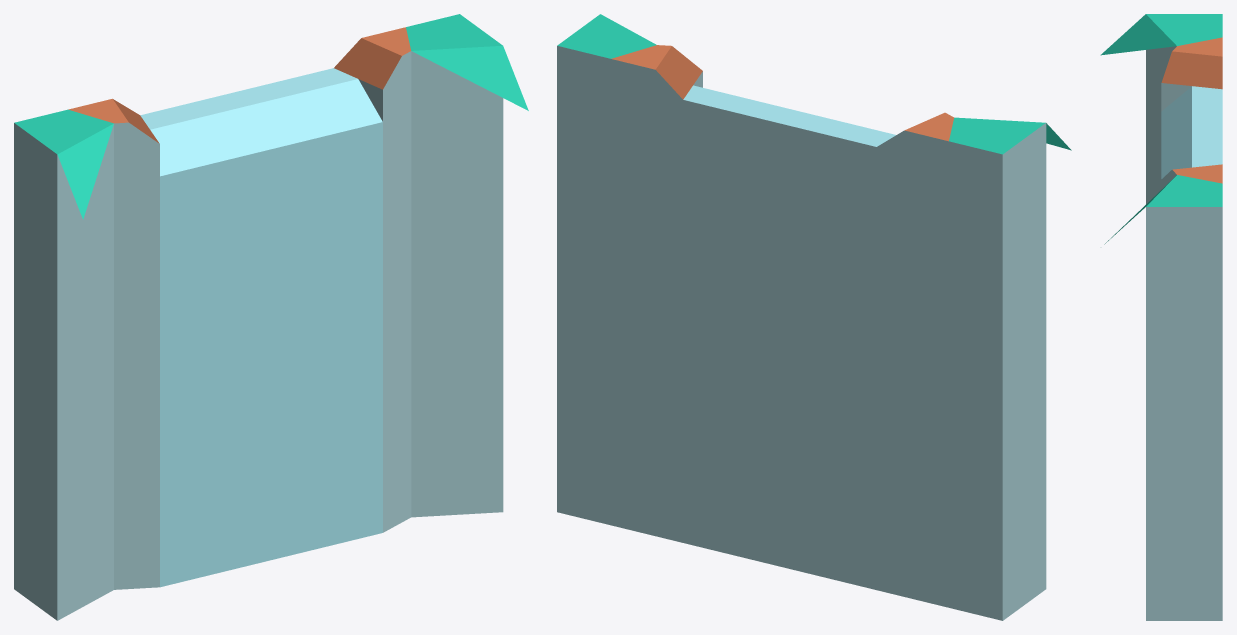
The model's file is cliff_waterfallTop_stone.obj.
3 views of the same model, side by side, from view 1: azimuth 30°, elevation 25°; view 2: azimuth 150°, elevation 25°; view 3: azimuth 270°, elevation 25° (orthographic). The views are drawn at different scales.
Visible parts, largest first — view 1: cliff_waterfallTop_stone; view 2: cliff_waterfallTop_stone; view 3: cliff_waterfallTop_stone.
Part boxes in pixels (x1,y1,x2,y2): cliff_waterfallTop_stone: (14, 14, 528, 620); cliff_waterfallTop_stone: (557, 14, 1071, 620); cliff_waterfallTop_stone: (1100, 14, 1222, 620).
Size of the model in its own units: 1 by 1 by 0.2685.
